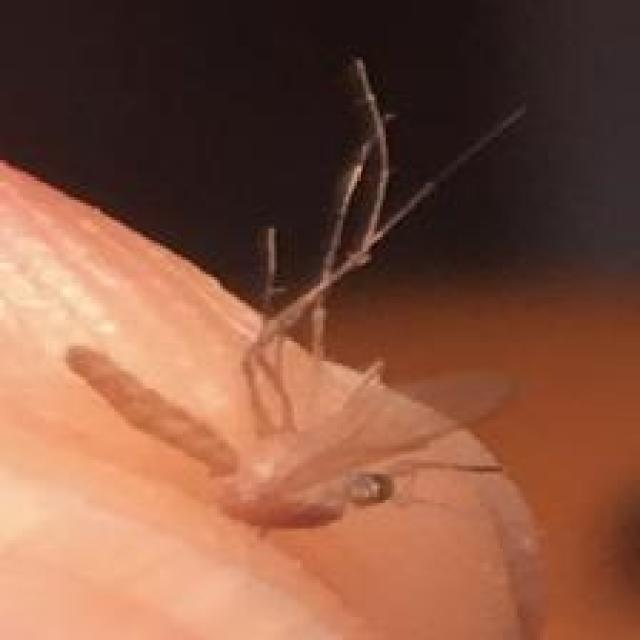Culex: (63, 51, 551, 640)
